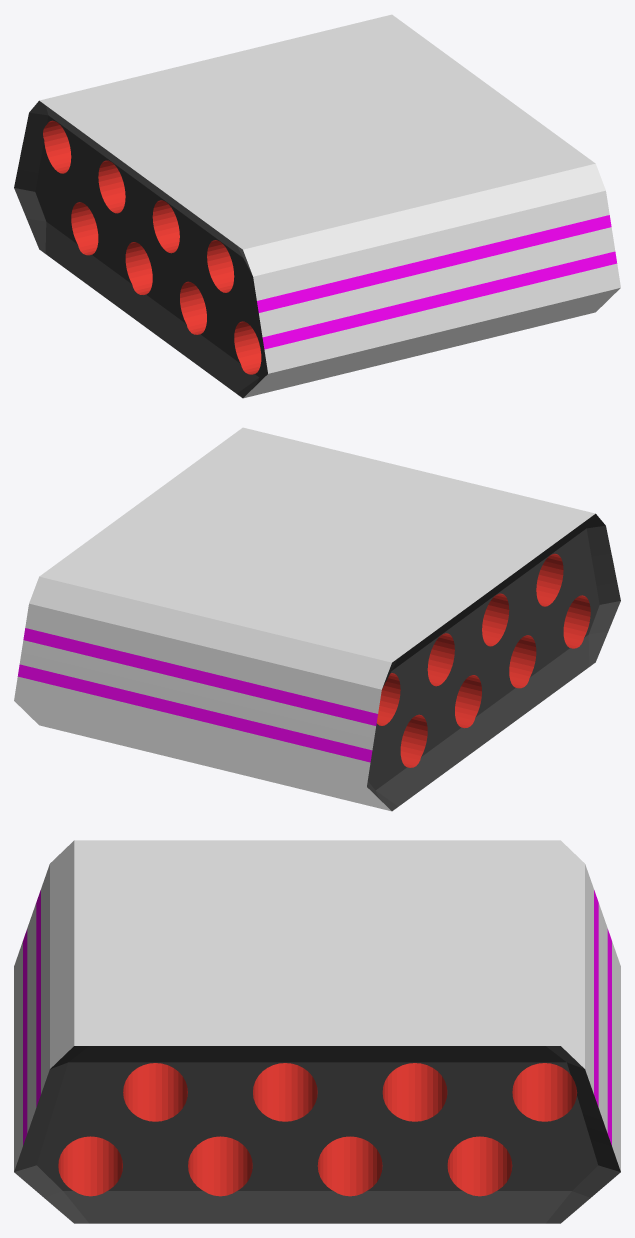
The model's file is Tank_RocketPod.fbx.
The picture shows the model from 3 angles, top to bottom: view 1: azimuth 30°, elevation 25°; view 2: azimuth 150°, elevation 25°; view 3: azimuth 270°, elevation 25°; orthographic projection. The views are drawn at different scales.
Parts seen in each view (by area): view 1: RocketPod; view 2: RocketPod; view 3: RocketPod.
Boxes of the visible parts, left/top/right/bottom form: RocketPod: left=14, top=14, right=620, bottom=398; RocketPod: left=14, top=427, right=620, bottom=811; RocketPod: left=14, top=840, right=620, bottom=1223.
Size of the model in its own units: 300 by 121 by 374.
